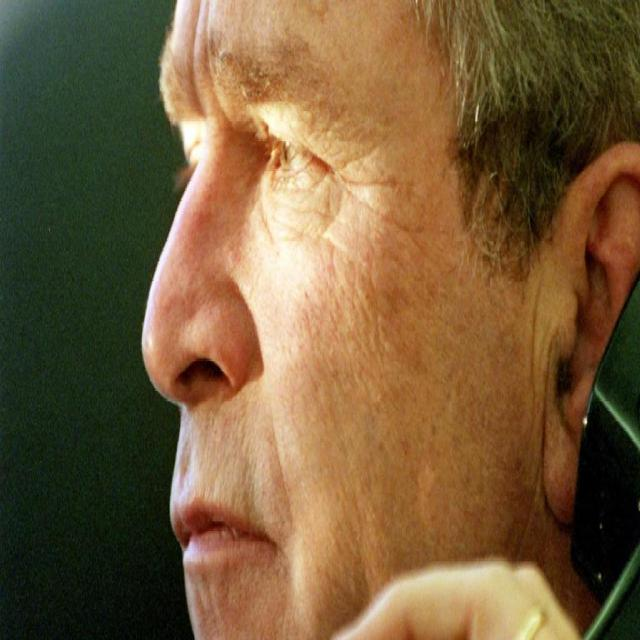nomask: (143, 0, 556, 640)
